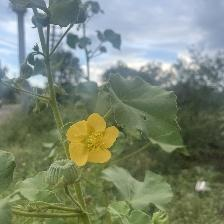indian mallow: (65, 113, 122, 169)
